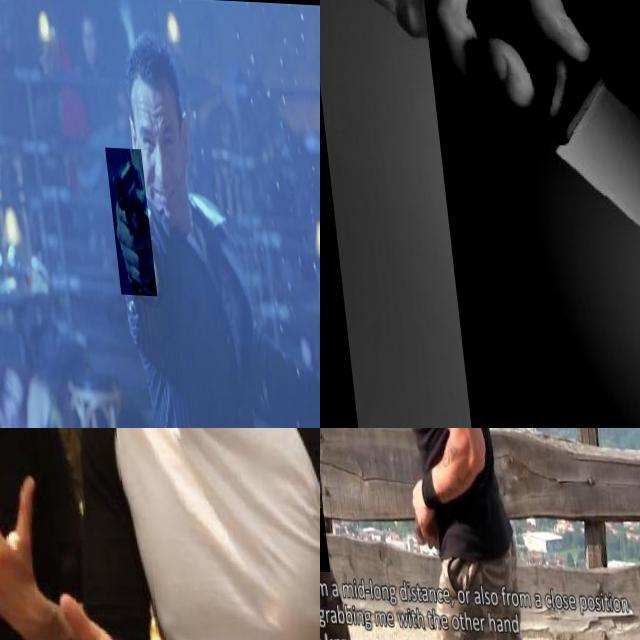-: (413, 0, 640, 428), (0, 428, 46, 571), (320, 502, 360, 569)
gun-knife-thesis - v11 Yolov5 augmented: (102, 144, 150, 293)
